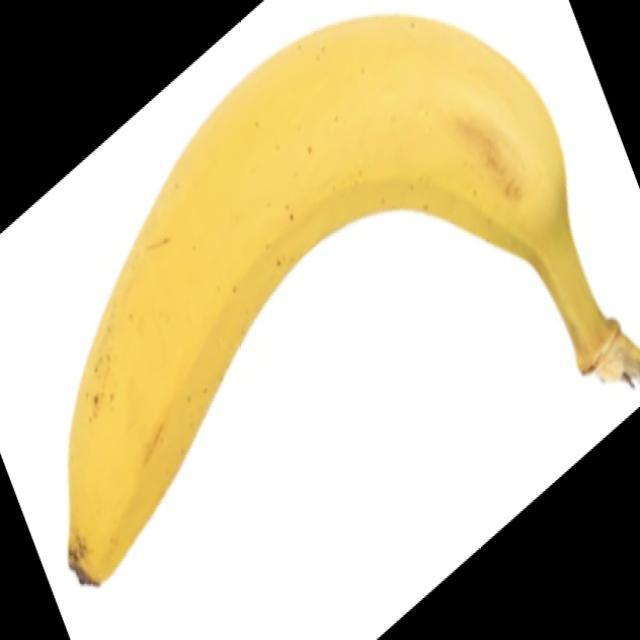Banana: (65, 12, 639, 587)
